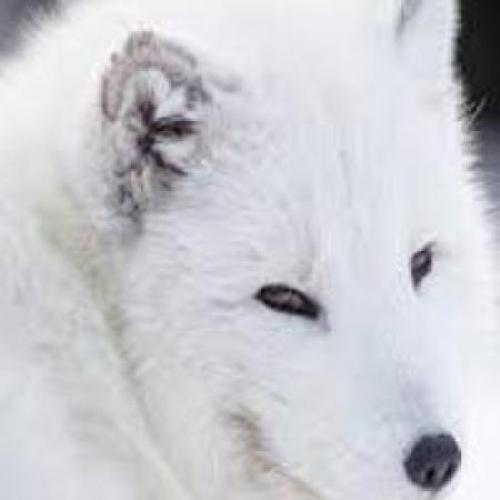arctic_fox-endangered: (12, 13, 487, 482)
